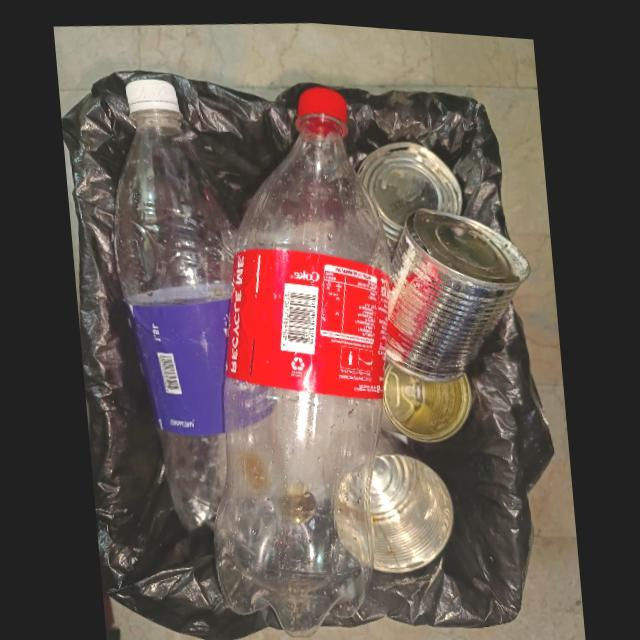metal: (387, 202, 528, 371), (366, 423, 451, 567), (357, 136, 461, 253), (380, 341, 473, 440)
plastic: (216, 83, 389, 631), (112, 77, 240, 530)
